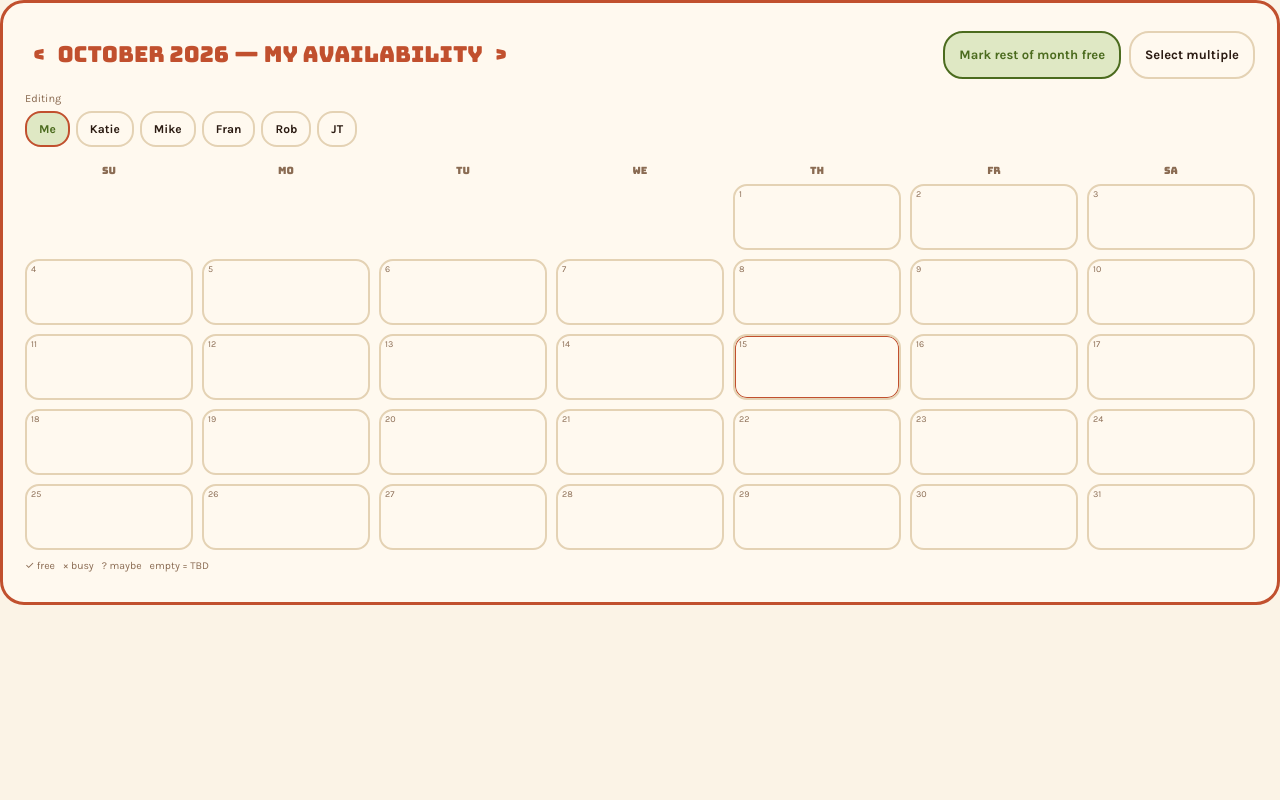
Test: who you can edit › drops any pending selection when the admin switches member
What coordinates should you click on to do the following:
click the button "Select multiple"
I would click on:
 (1192, 55)
Its box is [1129,31,1255,78].
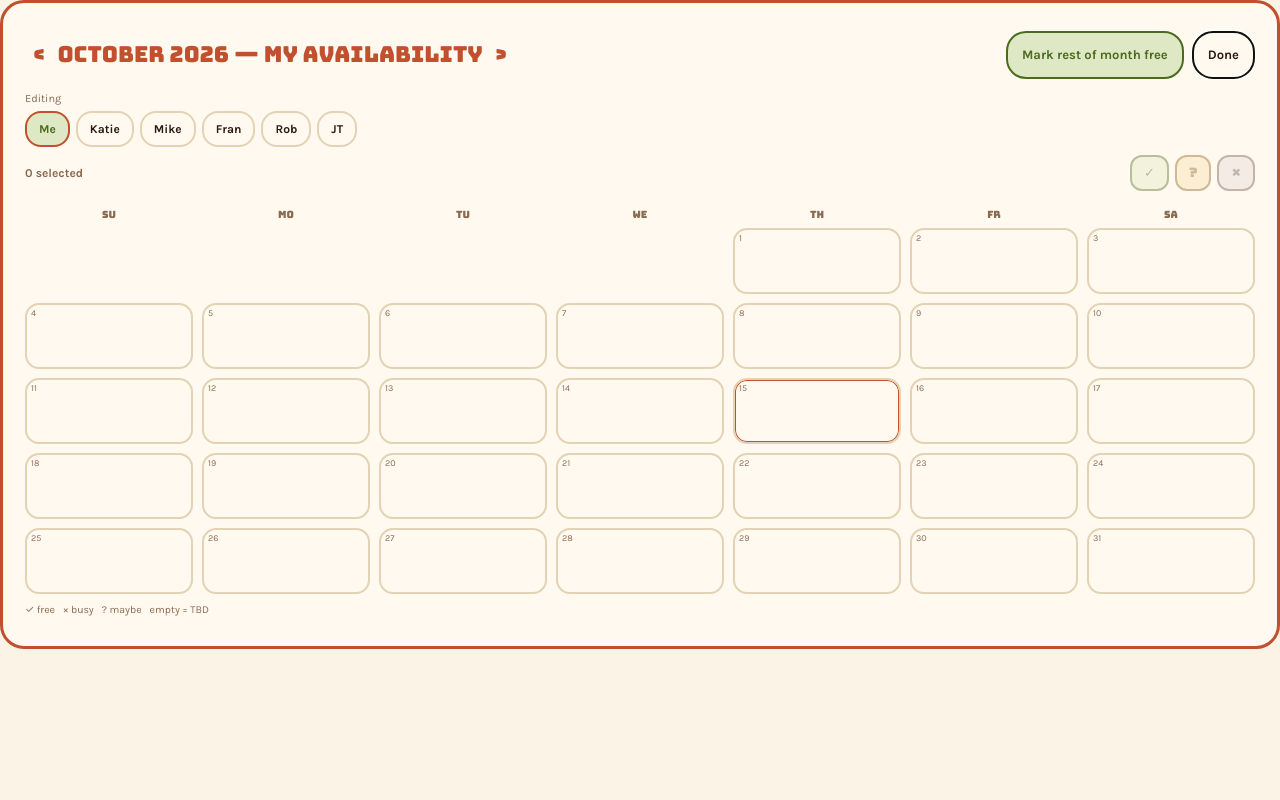
What coordinates should you click on to do the following:
click the button "16"
I would click on:
 (994, 411)
Its box is [910,378,1078,444].
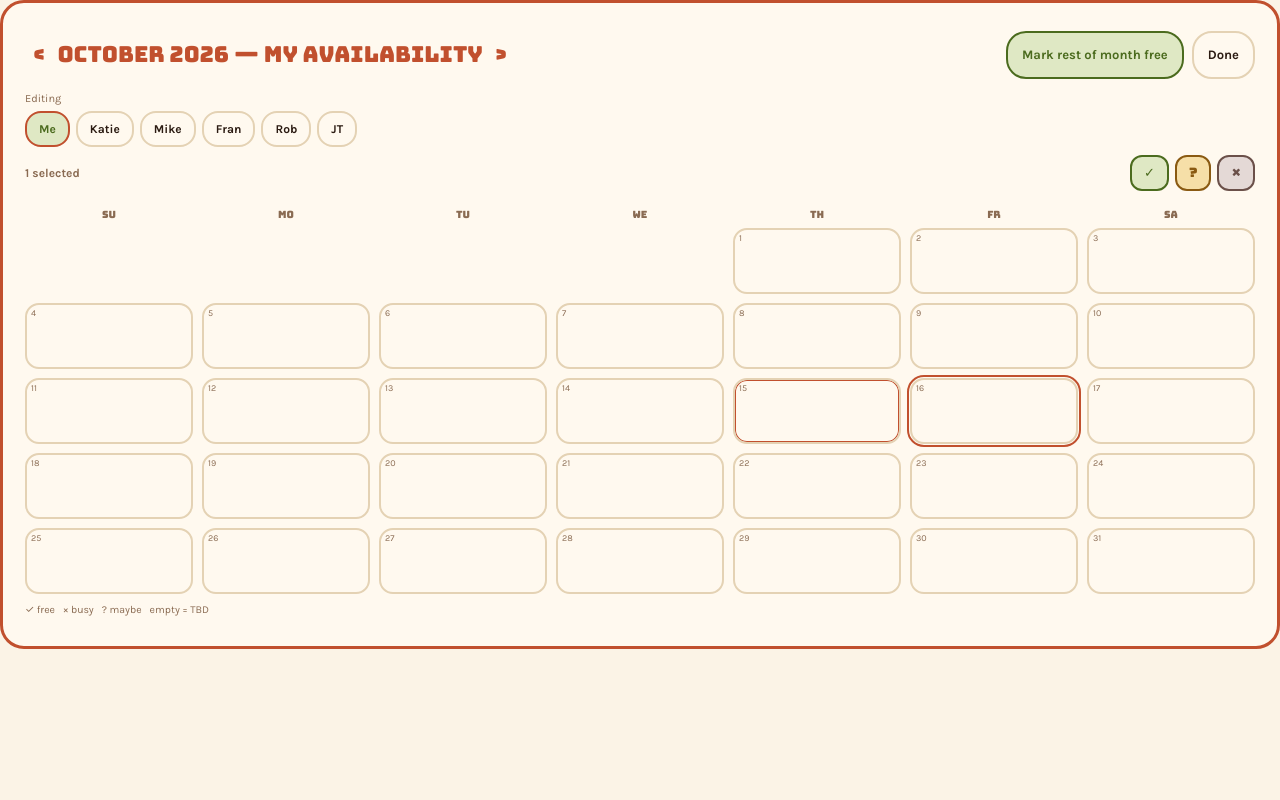
Expected: the text "1 selected" is shown, [25,164,80,182]
What coordinates should you click on to do the following:
click the button "Mike"
I would click on:
 (168, 129)
Its box is [140,111,196,147].
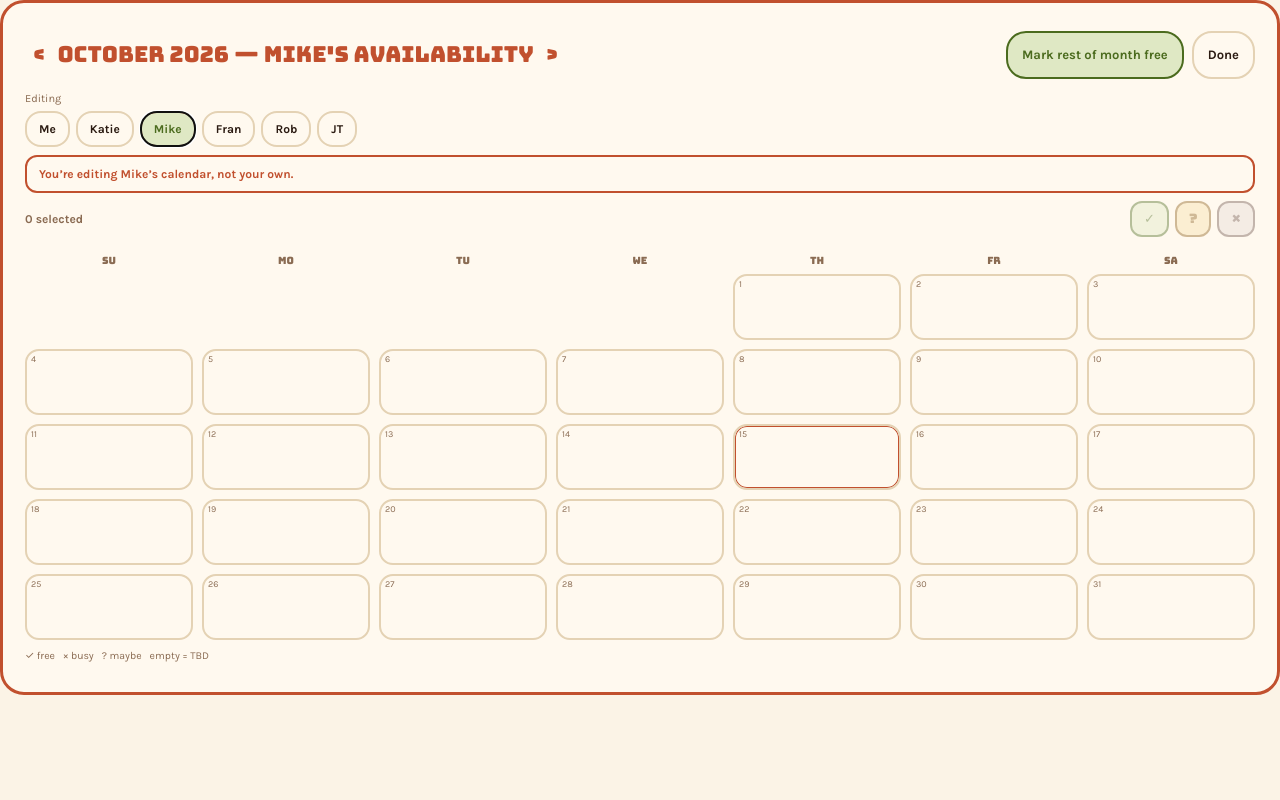
Expected: the text "0 selected" is shown, [25,210,83,228]
